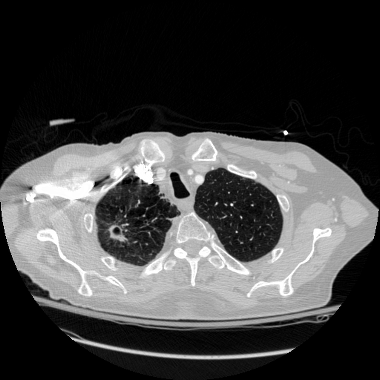nodule: (109, 221, 125, 237)
